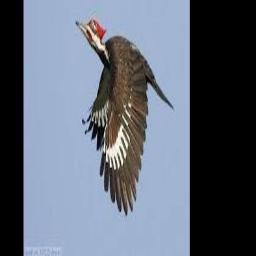Woodpecker: (76, 18, 174, 216)
